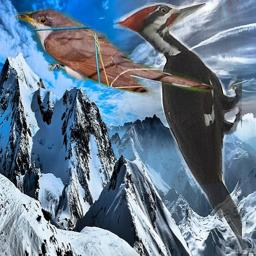Cuckoo: (13, 4, 218, 103)
Woodpecker: (113, 2, 242, 252)
